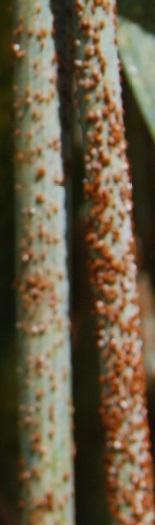Wheat: (24, 11, 63, 525), (102, 344, 155, 520), (76, 1, 118, 175), (84, 262, 136, 335), (82, 183, 135, 249)
